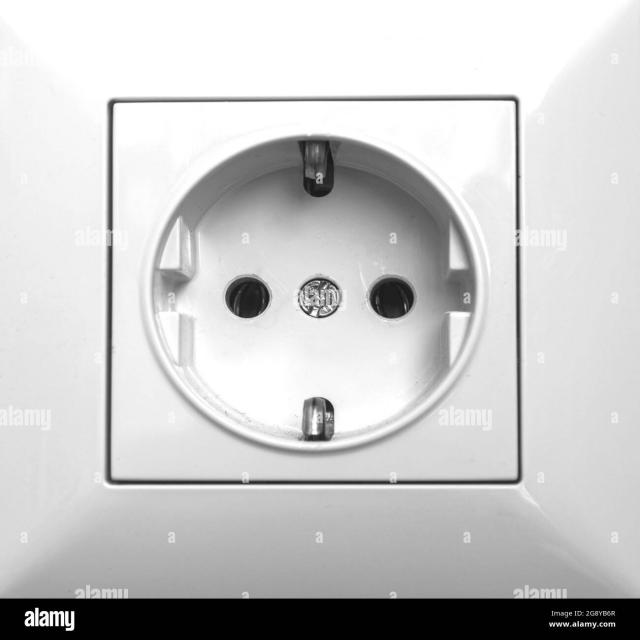typeb: (44, 46, 585, 544)
